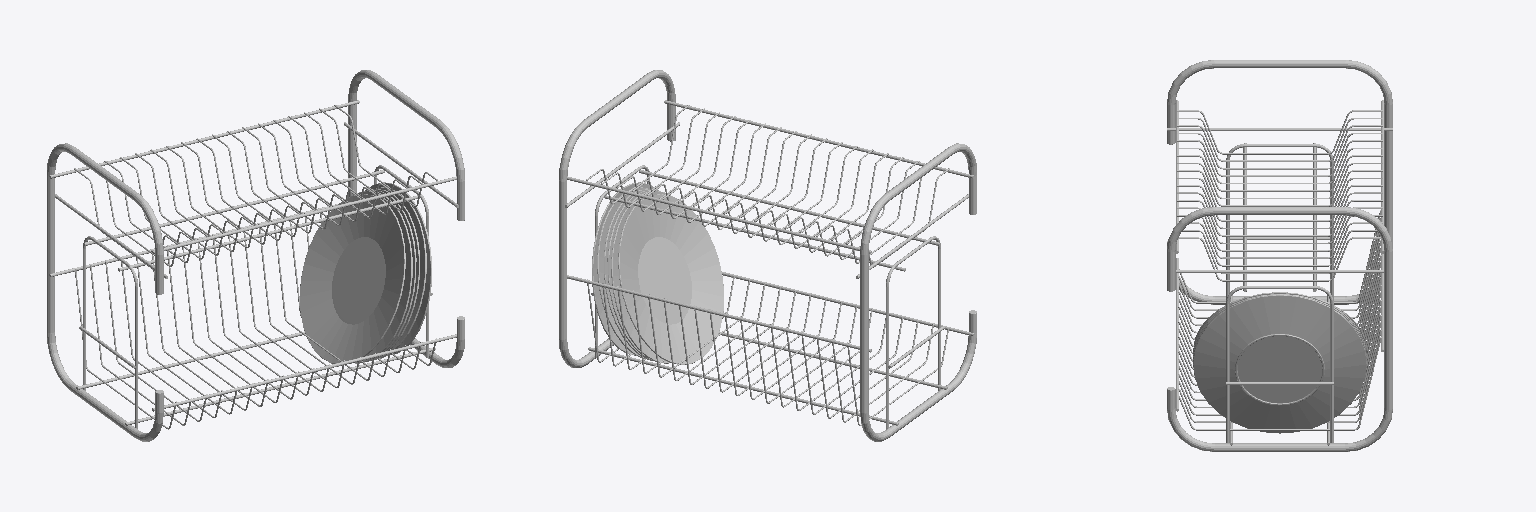
File: tempat-piring.obj
The picture shows the model from 3 angles: view 1: azimuth 30°, elevation 25°; view 2: azimuth 150°, elevation 25°; view 3: azimuth 270°, elevation 25°; orthographic projection.
Parts seen in each view (by area): view 1: rak.piring_Plane.008, piring.001_Circle.001, piring.005_Circle.005, piring_Circle, piring.002_Circle.002, piring.003_Circle.003, piring.004_Circle.004; view 2: rak.piring_Plane.008, piring.001_Circle.001, piring.005_Circle.005, piring_Circle, piring.002_Circle.002, piring.003_Circle.003, piring.004_Circle.004; view 3: rak.piring_Plane.008, piring_Circle.
Boxes of the visible parts, x1=… form: rak.piring_Plane.008: x1=47, y1=70, x2=464, y2=441; piring.001_Circle.001: x1=300, y1=194, x2=405, y2=363; piring.005_Circle.005: x1=351, y1=191, x2=412, y2=363; piring_Circle: x1=365, y1=182, x2=431, y2=354; piring.002_Circle.002: x1=376, y1=187, x2=426, y2=358; piring.003_Circle.003: x1=367, y1=189, x2=419, y2=359; piring.004_Circle.004: x1=371, y1=190, x2=416, y2=360; rak.piring_Plane.008: x1=559, y1=70, x2=976, y2=441; piring.001_Circle.001: x1=618, y1=194, x2=723, y2=364; piring.005_Circle.005: x1=611, y1=191, x2=672, y2=363; piring_Circle: x1=592, y1=182, x2=658, y2=355; piring.002_Circle.002: x1=597, y1=187, x2=647, y2=358; piring.003_Circle.003: x1=604, y1=189, x2=656, y2=360; piring.004_Circle.004: x1=607, y1=190, x2=660, y2=360; rak.piring_Plane.008: x1=1167, y1=60, x2=1392, y2=451; piring_Circle: x1=1193, y1=295, x2=1366, y2=433.
Bounding box in the file's own units: 0.41 × 0.3103 × 0.26.